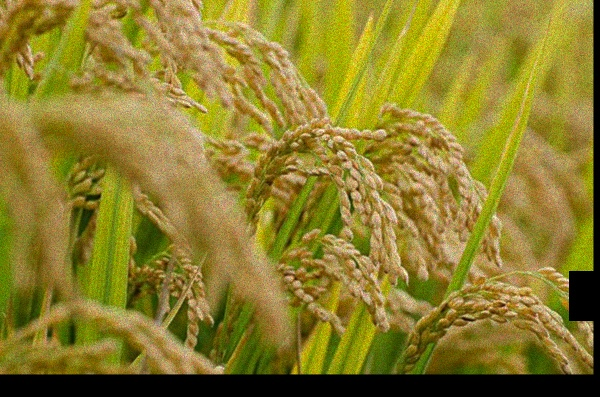rice: (239, 114, 408, 271), (403, 264, 590, 367), (246, 229, 394, 343)
